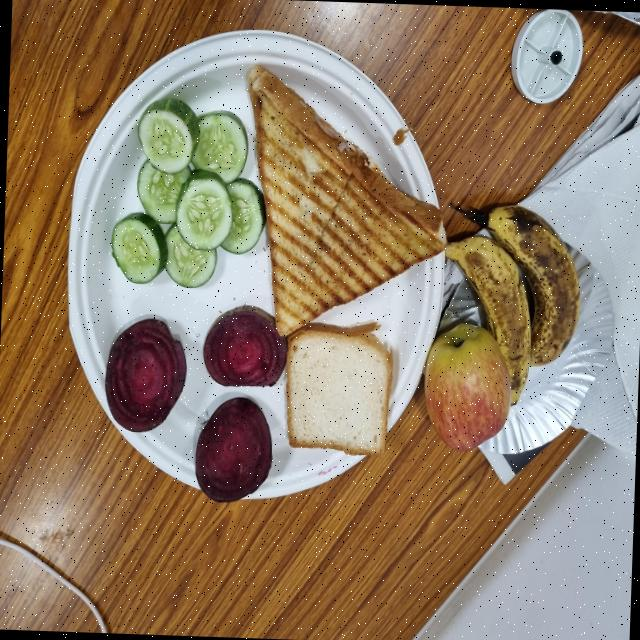apple: (420, 320, 511, 446)
banana: (484, 202, 577, 365), (444, 230, 530, 400)
cucumber: (135, 91, 194, 171), (173, 166, 230, 248), (107, 207, 166, 282), (185, 108, 245, 180), (133, 155, 195, 220), (217, 174, 266, 253), (159, 221, 215, 286)
